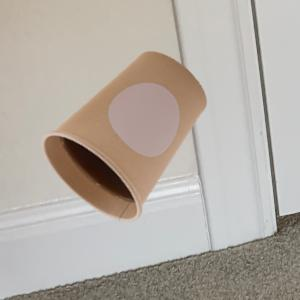cup: (43, 49, 207, 221)
